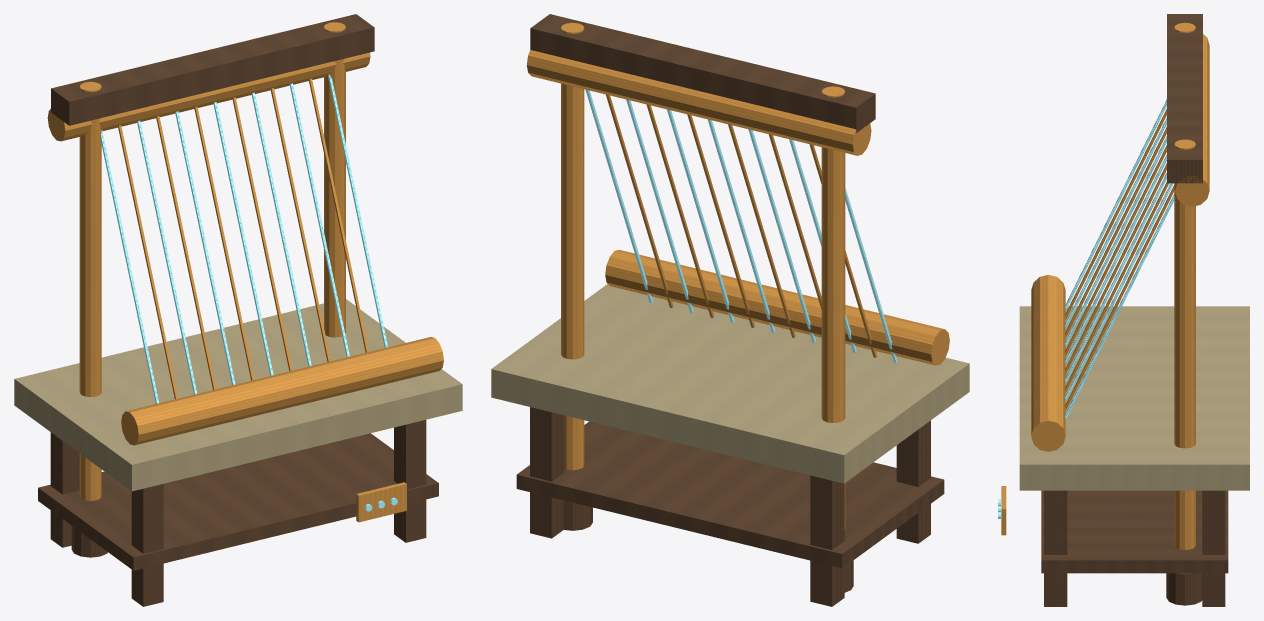
Rendered from atlas100-s015-a01.glb.
3 views of the same model, side by side, from view 1: azimuth 30°, elevation 25°; view 2: azimuth 150°, elevation 25°; view 3: azimuth 270°, elevation 25° (orthographic). The views are drawn at different scales.
Parts seen in each view (by area): view 1: atlas100-s015-a01:part-004, atlas100-s015-a01:part-005, atlas100-s015-a01:part-010, atlas100-s015-a01:part-024, atlas100-s015-a01:part-006, atlas100-s015-a01:part-008, atlas100-s015-a01:part-025, atlas100-s015-a01:part-001, atlas100-s015-a01:part-003, atlas100-s015-a01:part-000, atlas100-s015-a01:part-026, atlas100-s015-a01:part-015 (+13 smaller); view 2: atlas100-s015-a01:part-004, atlas100-s015-a01:part-005, atlas100-s015-a01:part-010, atlas100-s015-a01:part-024, atlas100-s015-a01:part-025, atlas100-s015-a01:part-008, atlas100-s015-a01:part-006, atlas100-s015-a01:part-000, atlas100-s015-a01:part-002, atlas100-s015-a01:part-001, atlas100-s015-a01:part-017, atlas100-s015-a01:part-020 (+11 smaller); view 3: atlas100-s015-a01:part-004, atlas100-s015-a01:part-005, atlas100-s015-a01:part-008, atlas100-s015-a01:part-024, atlas100-s015-a01:part-010, atlas100-s015-a01:part-002, atlas100-s015-a01:part-003, atlas100-s015-a01:part-025, atlas100-s015-a01:part-009, atlas100-s015-a01:part-022, atlas100-s015-a01:part-023, atlas100-s015-a01:part-021 (+10 smaller).
Part boxes in pixels (x1,y1,x2,y2): atlas100-s015-a01:part-004: [14, 299, 462, 491]; atlas100-s015-a01:part-005: [38, 433, 438, 570]; atlas100-s015-a01:part-010: [51, 14, 374, 125]; atlas100-s015-a01:part-024: [121, 337, 443, 445]; atlas100-s015-a01:part-006: [79, 81, 101, 500]; atlas100-s015-a01:part-008: [324, 22, 345, 337]; atlas100-s015-a01:part-025: [47, 52, 370, 141]; atlas100-s015-a01:part-001: [131, 484, 163, 606]; atlas100-s015-a01:part-003: [394, 420, 426, 542]; atlas100-s015-a01:part-000: [50, 432, 79, 547]; atlas100-s015-a01:part-026: [356, 482, 406, 522]; atlas100-s015-a01:part-015: [175, 111, 235, 385]; atlas100-s015-a01:part-004: [491, 284, 969, 483]; atlas100-s015-a01:part-005: [516, 421, 944, 568]; atlas100-s015-a01:part-010: [530, 14, 875, 132]; atlas100-s015-a01:part-024: [605, 249, 949, 365]; atlas100-s015-a01:part-025: [527, 50, 871, 155]; atlas100-s015-a01:part-008: [561, 22, 584, 470]; atlas100-s015-a01:part-006: [821, 86, 845, 529]; atlas100-s015-a01:part-000: [810, 475, 844, 606]; atlas100-s015-a01:part-002: [530, 407, 564, 538]; atlas100-s015-a01:part-001: [896, 420, 930, 543]; atlas100-s015-a01:part-017: [707, 119, 775, 332]; atlas100-s015-a01:part-020: [646, 104, 714, 317]; atlas100-s015-a01:part-004: [1019, 306, 1249, 490]; atlas100-s015-a01:part-005: [1041, 490, 1228, 573]; atlas100-s015-a01:part-008: [1174, 139, 1195, 549]; atlas100-s015-a01:part-024: [1031, 275, 1065, 451]; atlas100-s015-a01:part-010: [1167, 14, 1202, 183]; atlas100-s015-a01:part-002: [1202, 490, 1225, 606]; atlas100-s015-a01:part-003: [1044, 490, 1067, 606]; atlas100-s015-a01:part-025: [1175, 34, 1209, 206]; atlas100-s015-a01:part-009: [1166, 573, 1202, 605]; atlas100-s015-a01:part-022: [1065, 185, 1174, 410]; atlas100-s015-a01:part-023: [1065, 194, 1174, 419]; atlas100-s015-a01:part-021: [1065, 183, 1173, 401].
Bounding box in the file's own units: 2.6 × 3.48 × 1.75.
Materials: 4 (4 with a texture image).
